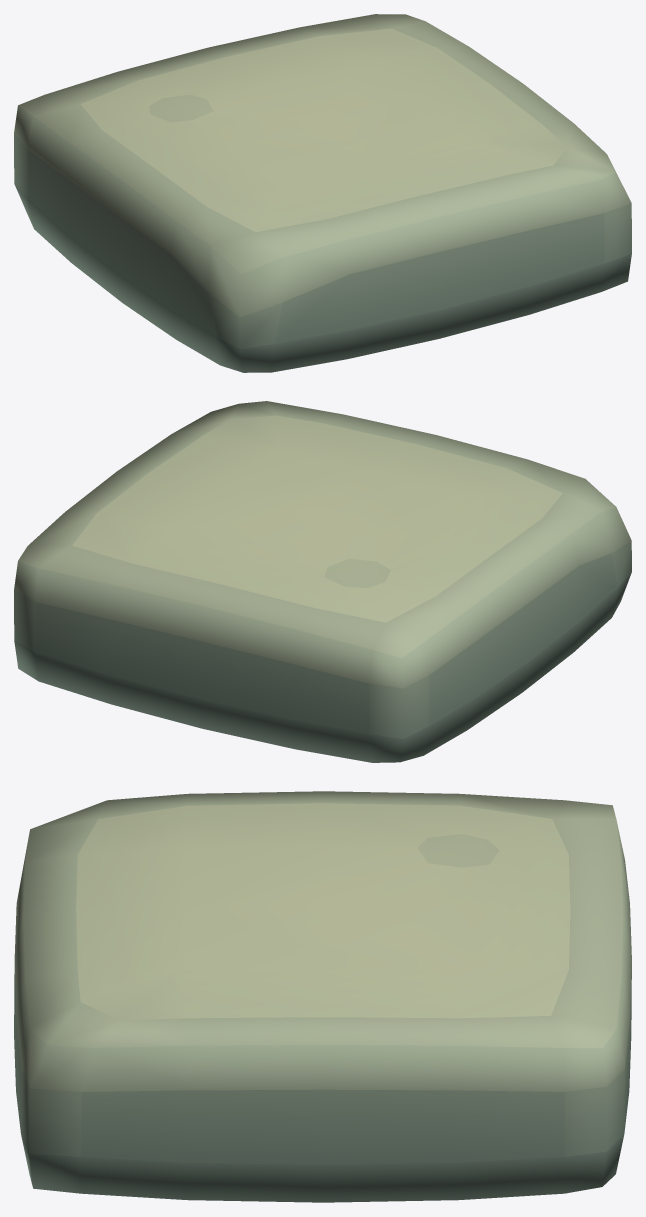
The model's file is block_stone1_4_debris_LOD_group.fbx.
3 views of the same model, one above another, from view 1: azimuth 30°, elevation 25°; view 2: azimuth 150°, elevation 25°; view 3: azimuth 270°, elevation 25° (orthographic). The views are drawn at different scales.
Visible parts, largest first — view 1: block_stone1_4_debris_LOD0; view 2: block_stone1_4_debris_LOD0; view 3: block_stone1_4_debris_LOD0.
Boxes of the visible parts, x1,y1,x2,y2 form: block_stone1_4_debris_LOD0: [14, 14, 631, 372]; block_stone1_4_debris_LOD0: [14, 401, 631, 762]; block_stone1_4_debris_LOD0: [14, 791, 631, 1202].
Size of what is drawn, in the model's own units: 107 by 35.04 by 107.
1 material, 1 textured.
